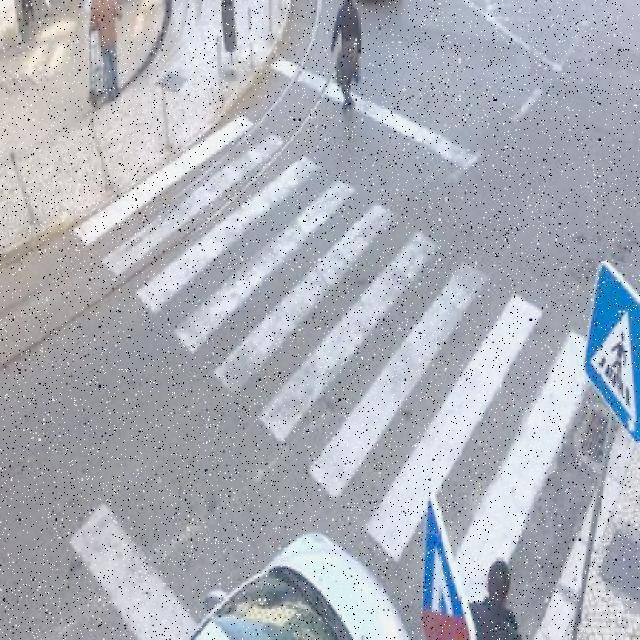crosswalk: (73, 117, 593, 633)
